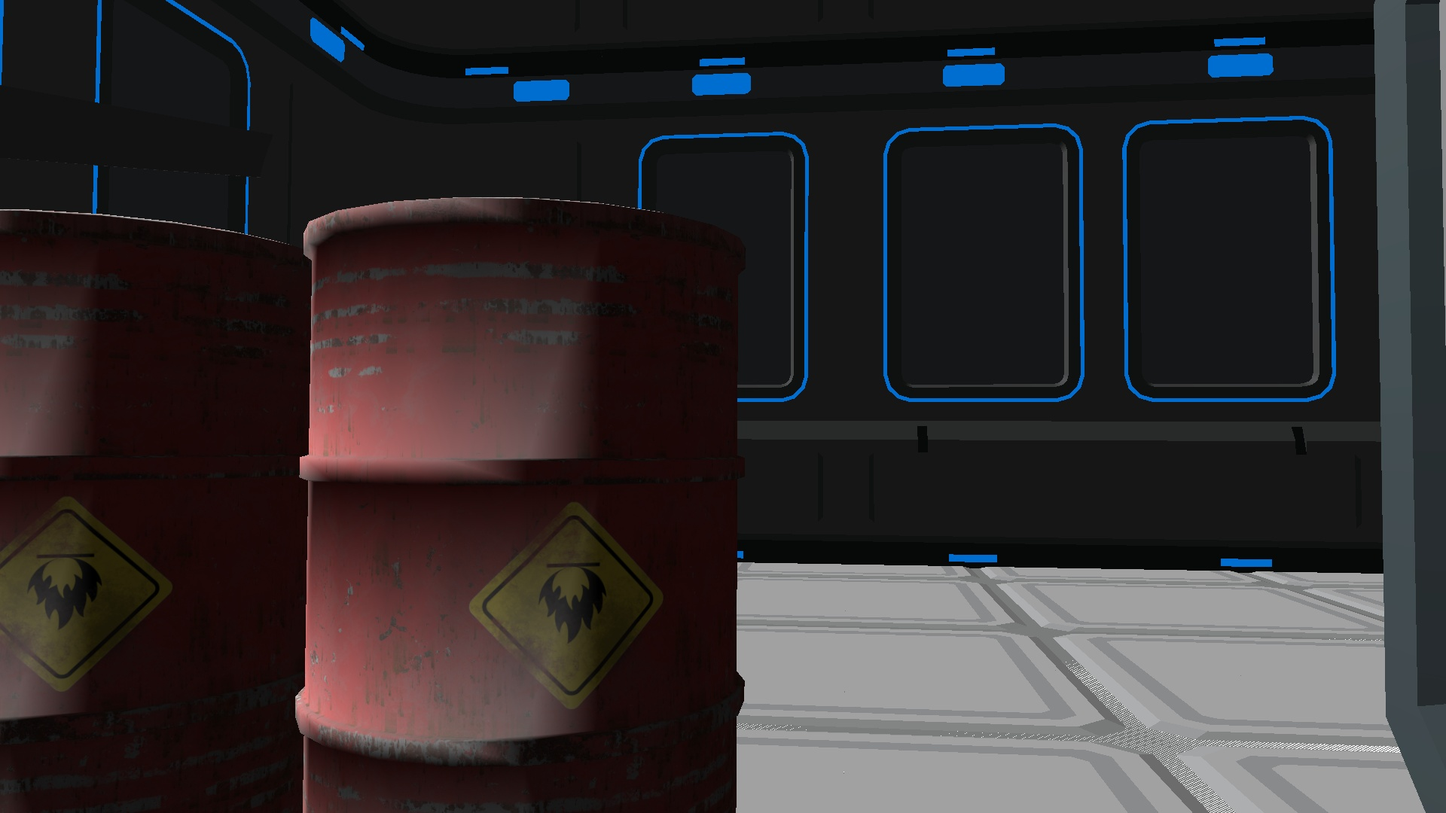toxic barrel: (293, 195, 746, 813), (0, 207, 312, 813)
